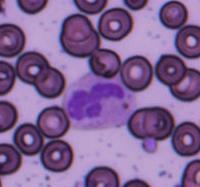N: (62, 73, 136, 129)
